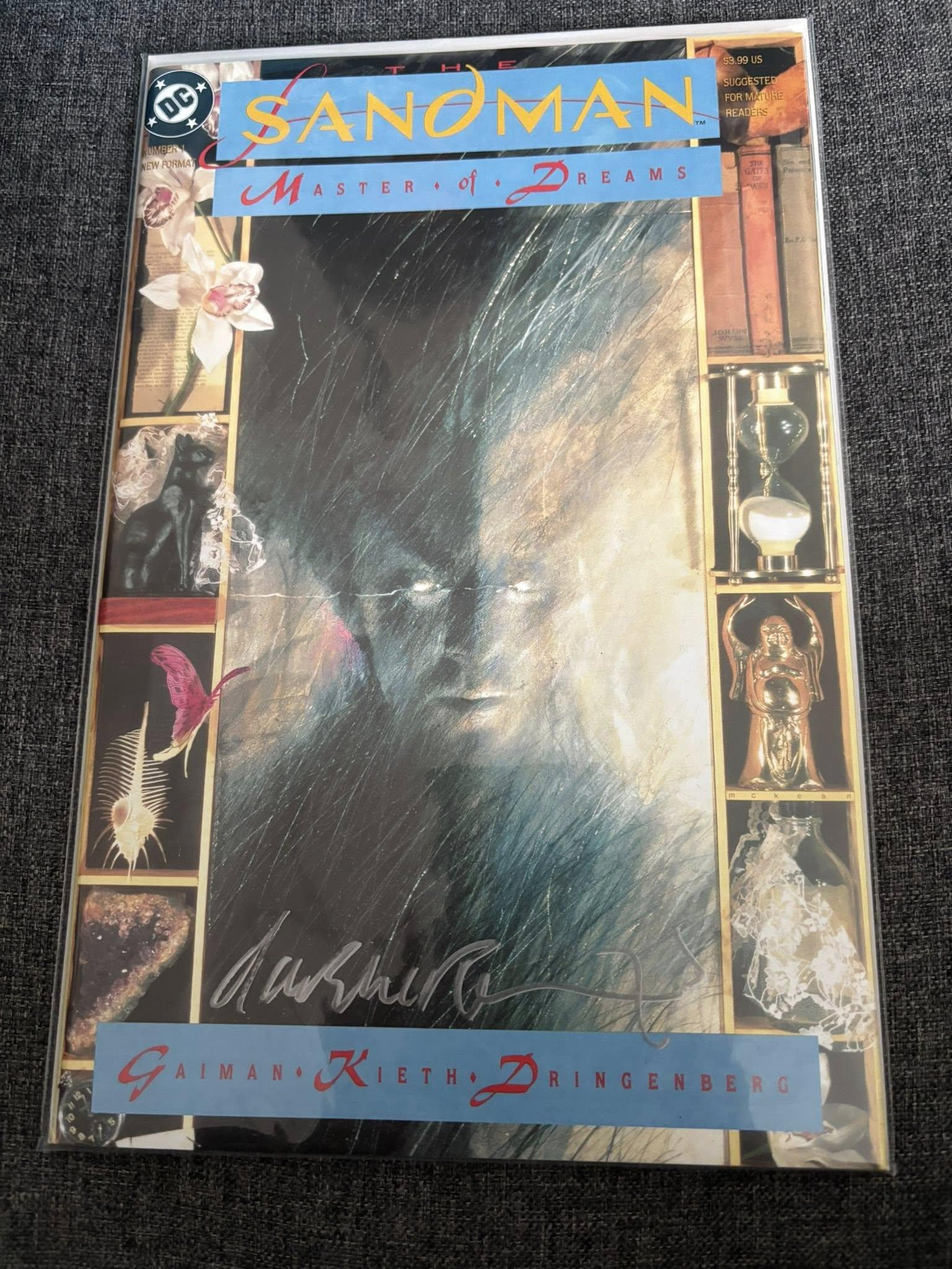comic: (44, 3, 917, 1169)
